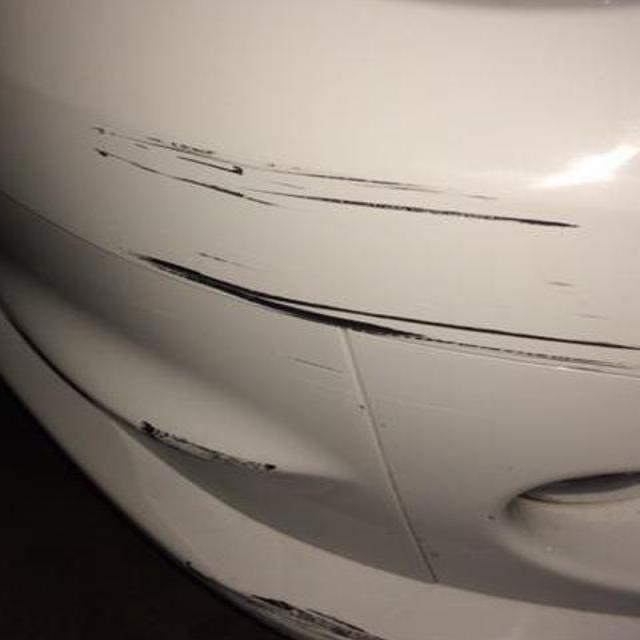scratch: (85, 223, 631, 386), (66, 109, 578, 244), (176, 542, 478, 640), (112, 409, 344, 504)
